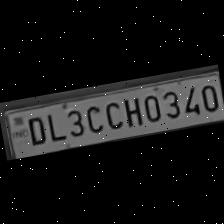0: (196, 80, 220, 114), (140, 90, 162, 124)
3: (158, 86, 181, 122), (62, 104, 84, 138)
4: (176, 82, 200, 118)
C: (100, 96, 124, 132), (80, 100, 104, 135)
D: (22, 112, 48, 148)
H: (119, 92, 143, 128)
L: (43, 108, 64, 143)
